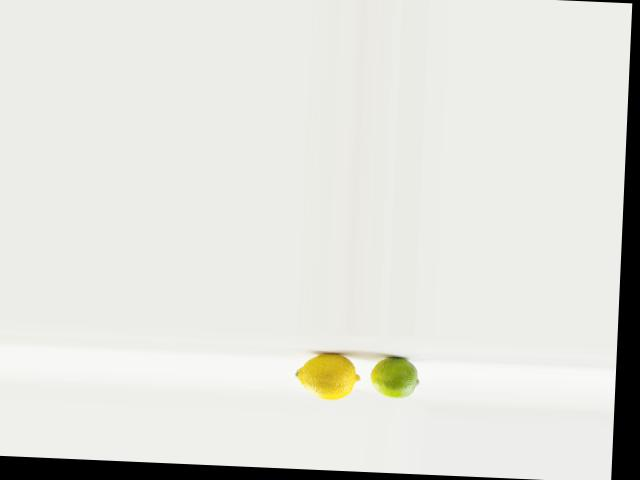lemon: (295, 350, 357, 403)
